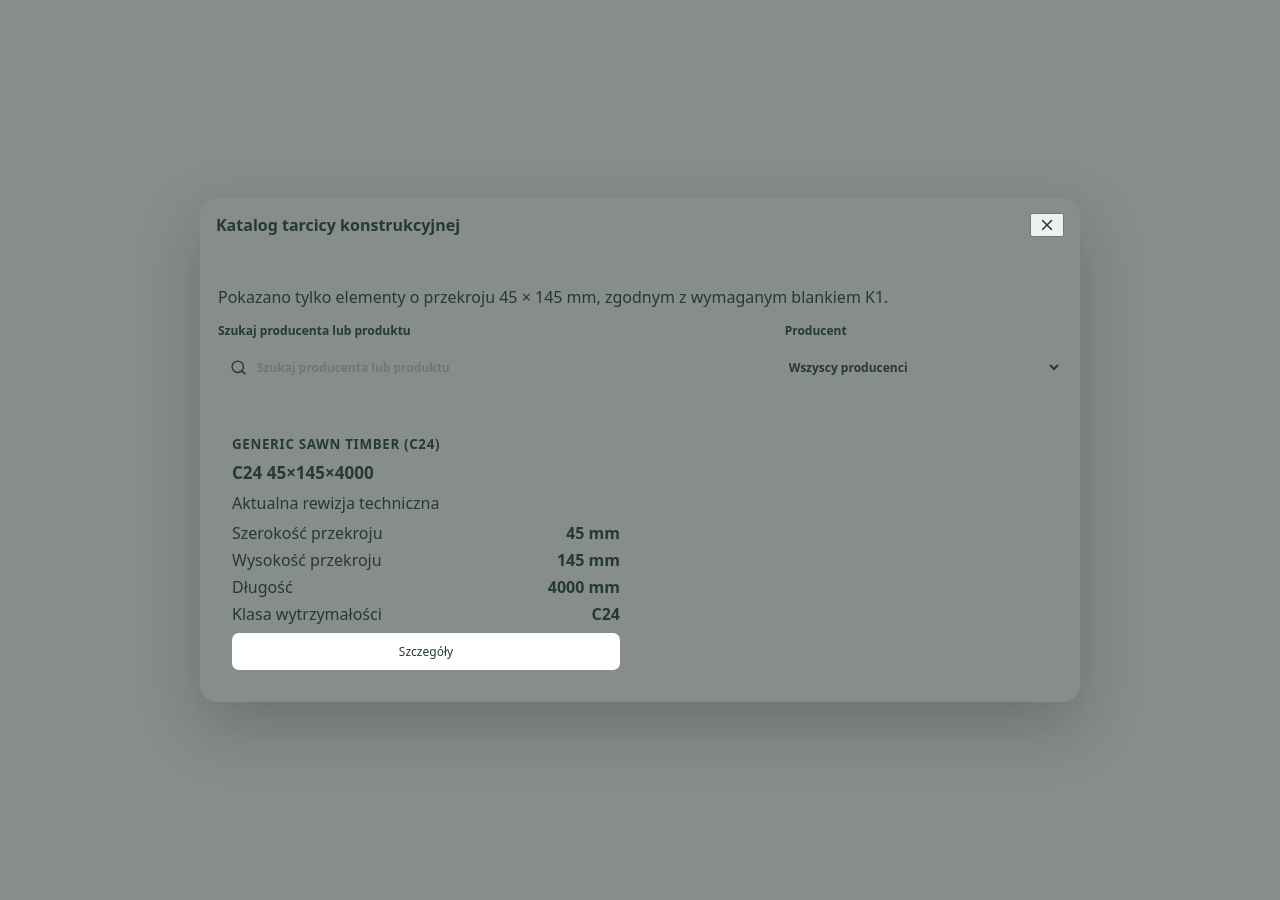
Test: timber stock catalogue picker › rejects an exact revision whose section no longer matches the required blank, never silently substituting it
Expected: the text "C24 45×145×4000" is shown, left=232, top=461, right=374, bottom=484
Step 1. Click the button "Szczegóły" → x=426, y=652, box left=232, top=633, right=620, bottom=670
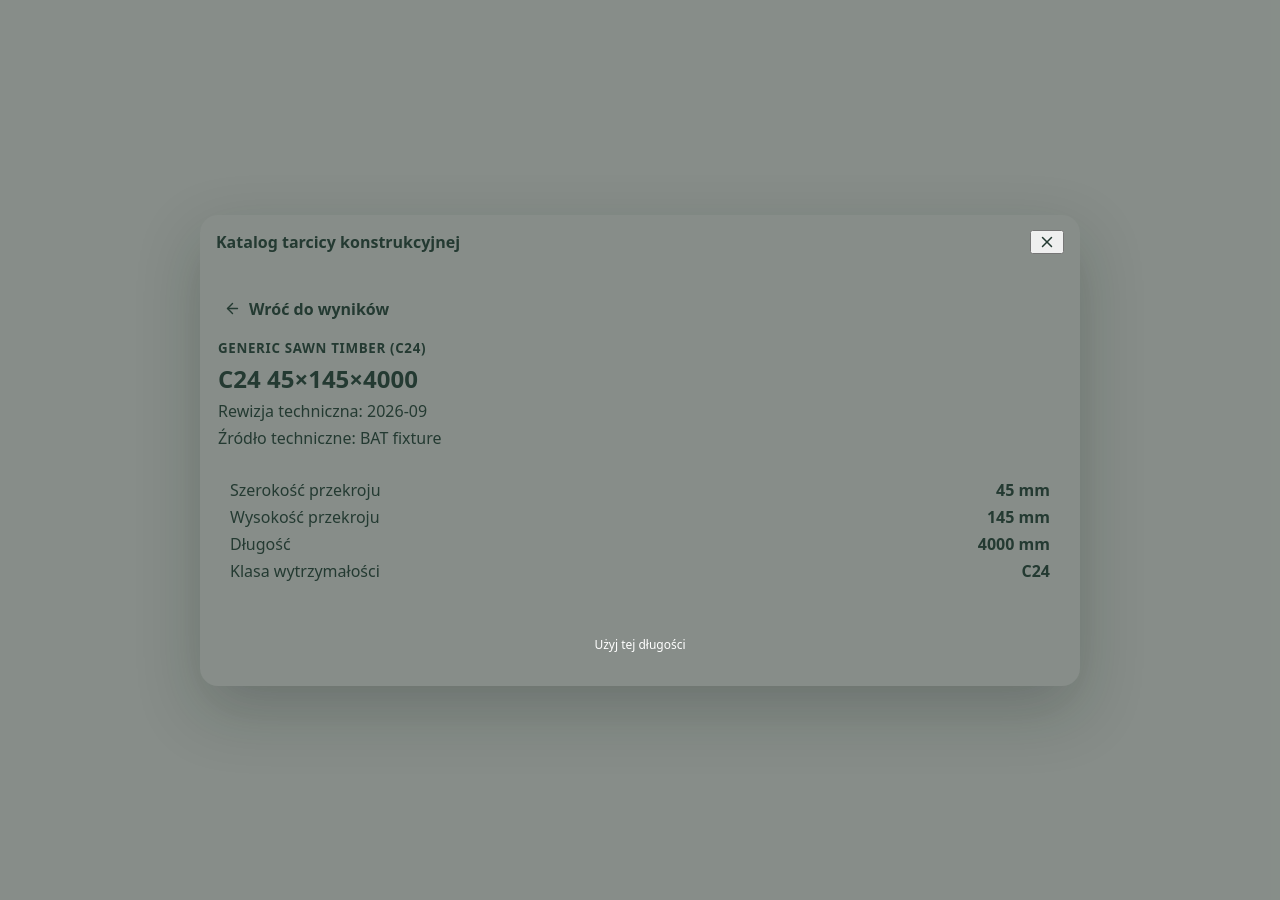
Step 2. Click the button "Użyj tej długości" → x=640, y=644, box left=218, top=622, right=1062, bottom=668
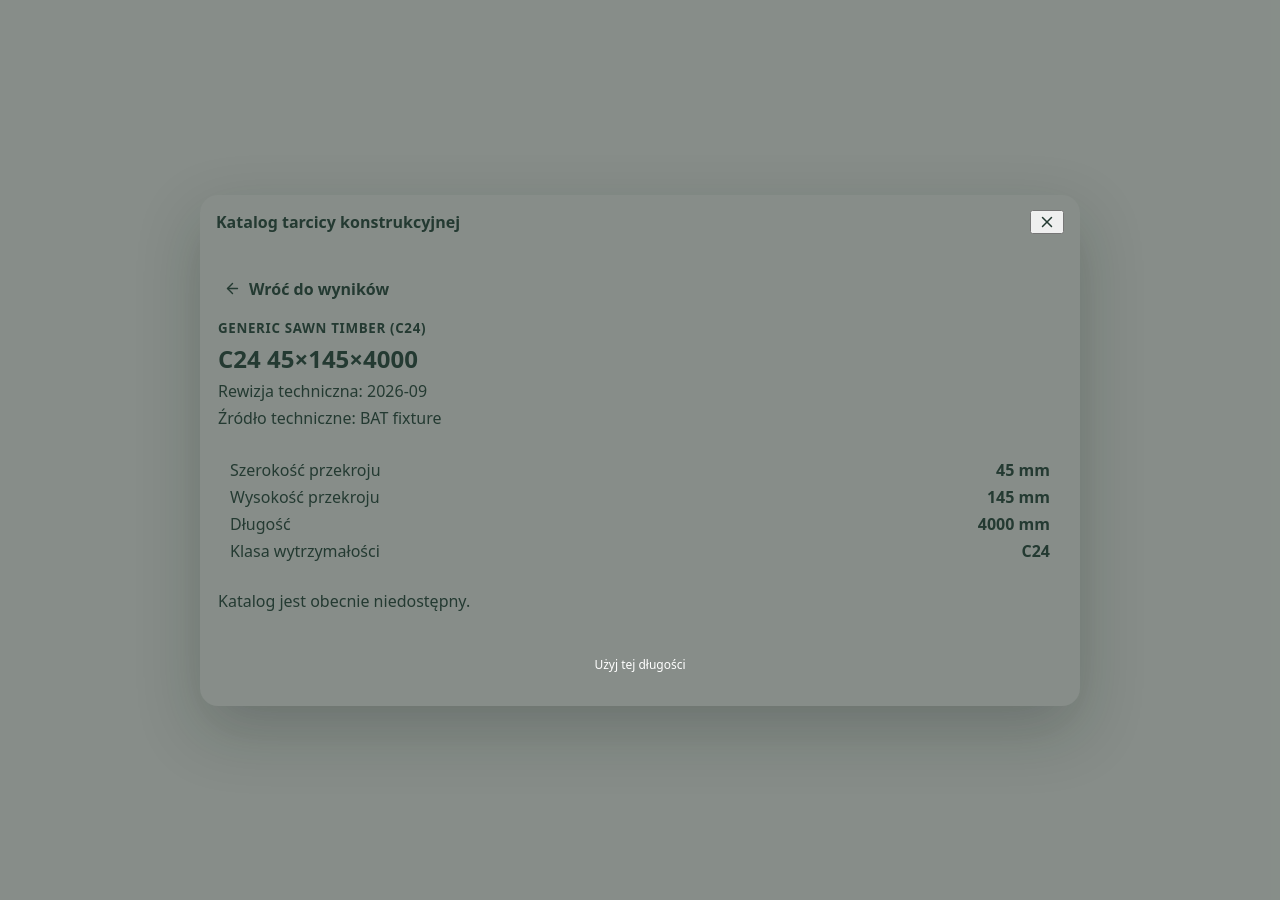
Now the message "Katalog jest obecnie niedostępny." is shown, box left=218, top=590, right=470, bottom=612
